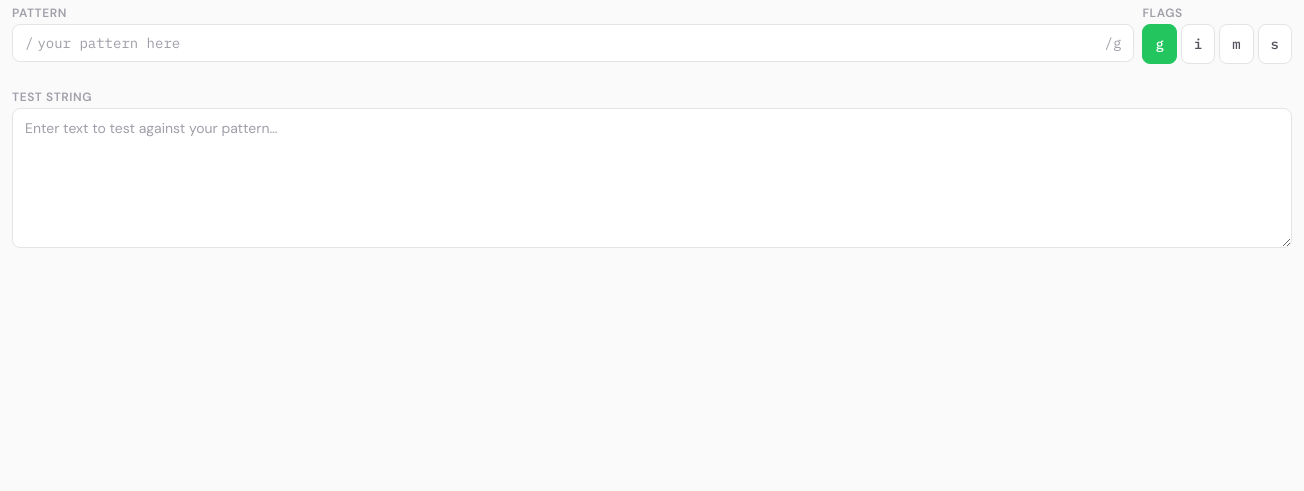
Test: RegexTesterTool › handles case-insensitive flag
This screenshot has width=1304, height=491.
Type "apple" into the field with placeholder "your pattern here". click: x=569, y=43
box: [37,25,1101,61]
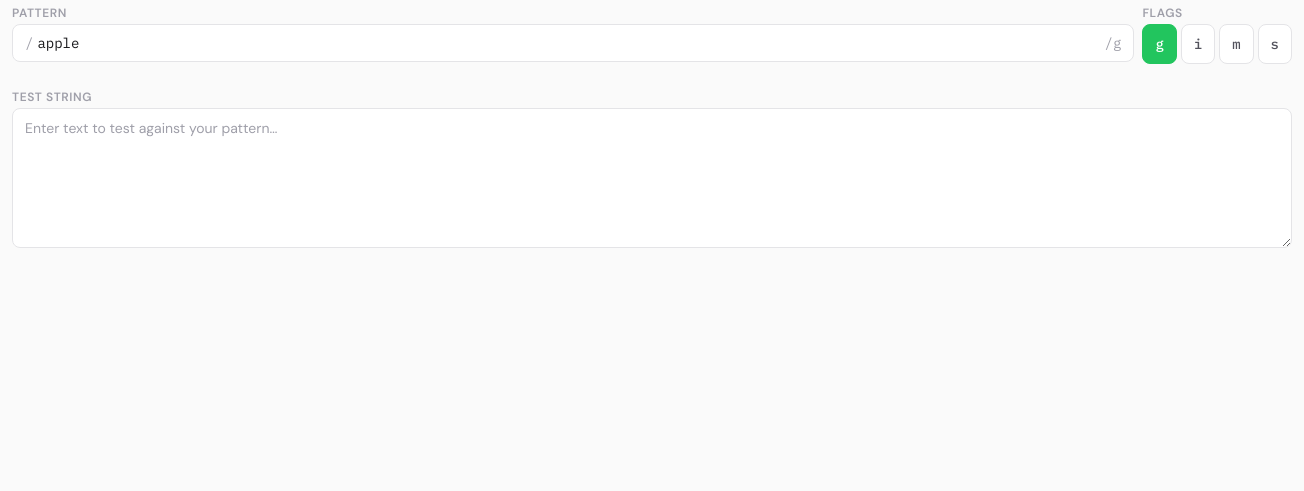
Type "Apple" into the text box with placeholder "Enter text to test against your pattern…". click: x=652, y=178
box: [12,108,1292,248]
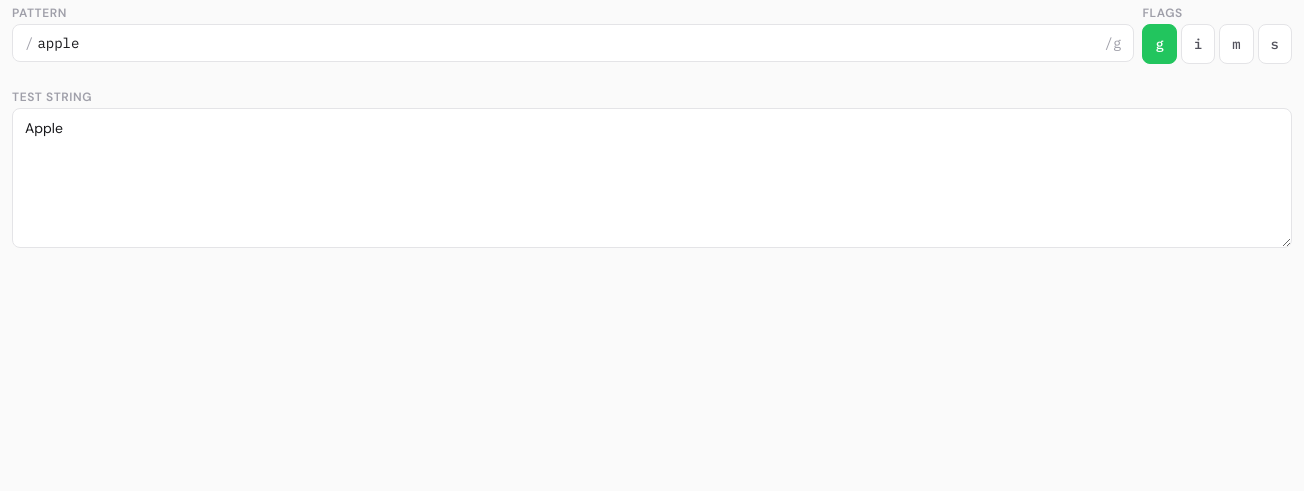
// Toggle case-insensitive flag ('i')
Click the button "i". click: x=1198, y=44
box: [1181,24,1215,64]
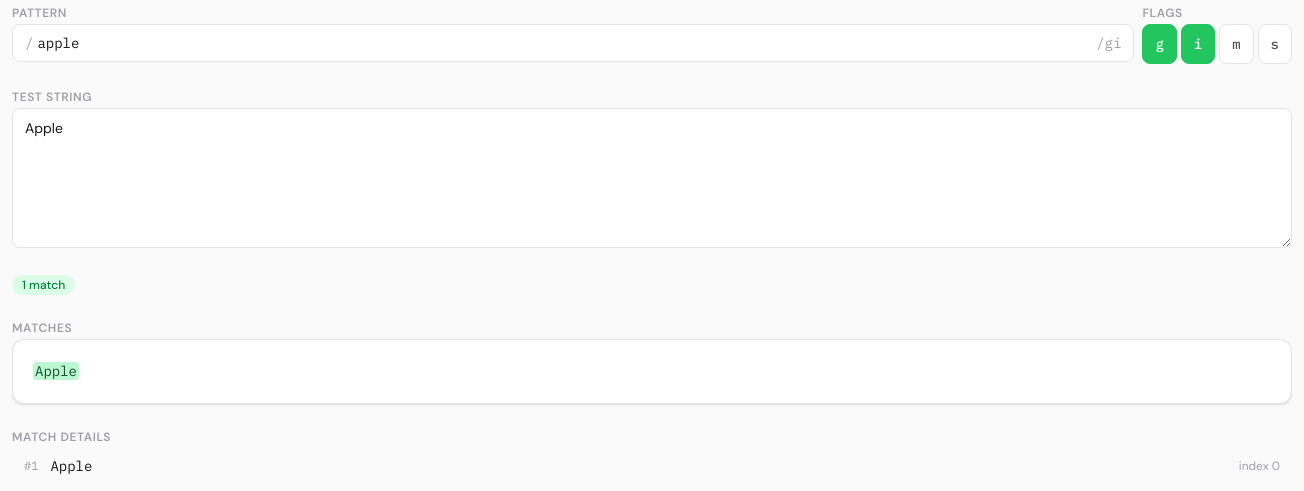
expect the text "1 match" is shown: met, box [12,275,75,295]
